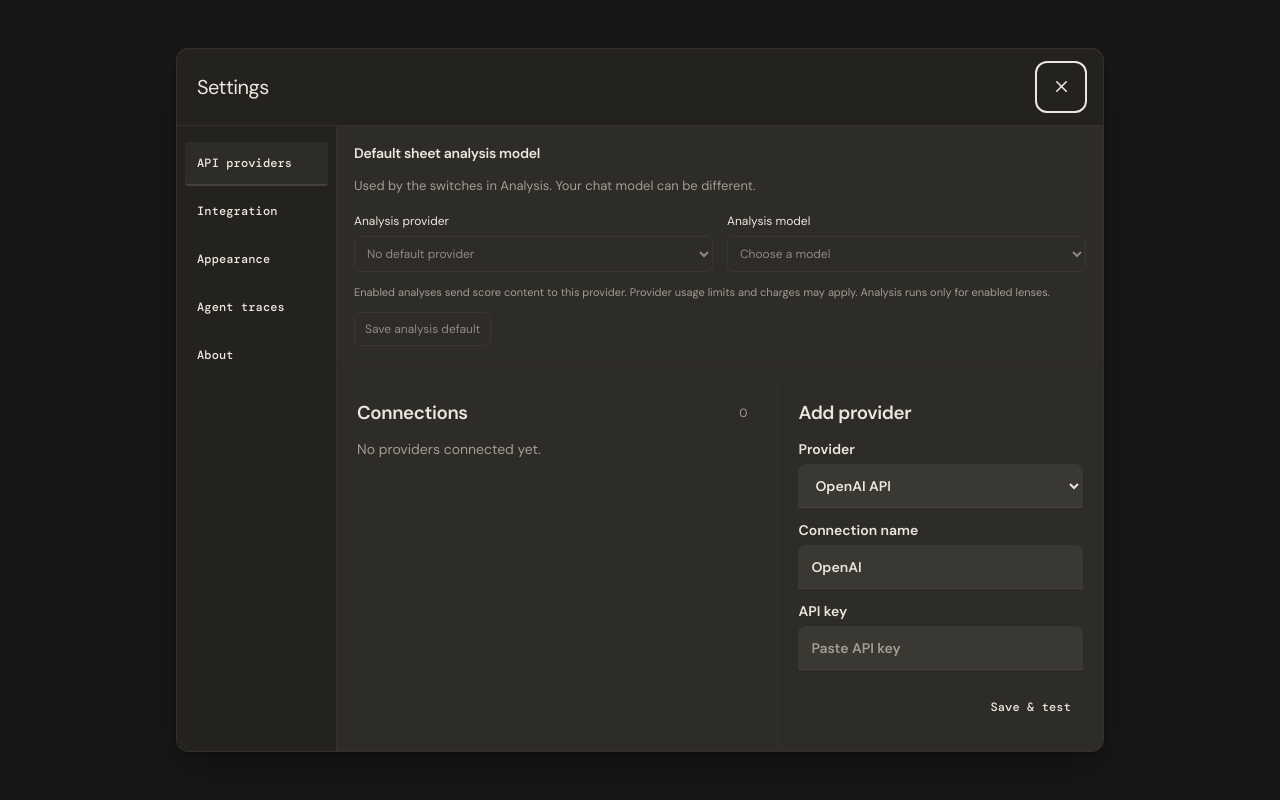
Scenario: AISettingsModal › offers all provider types and saves an API-key connection
Replace the text in the field labelled "Connection name" with "Team OpenAI" at (941, 567), box [798,545,1083,589]
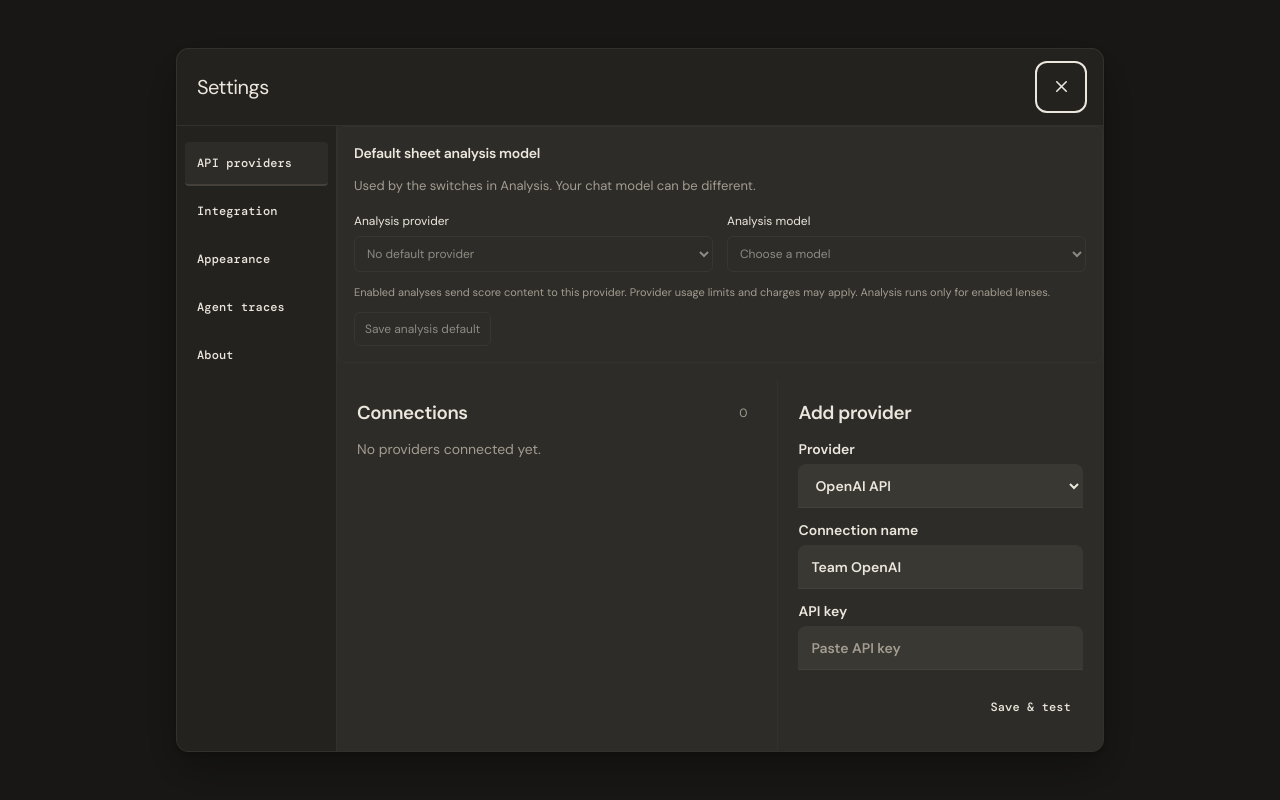
Type "sk-renderer-transient" into the password field labelled "API key" at (941, 648), box [798,626,1083,670]
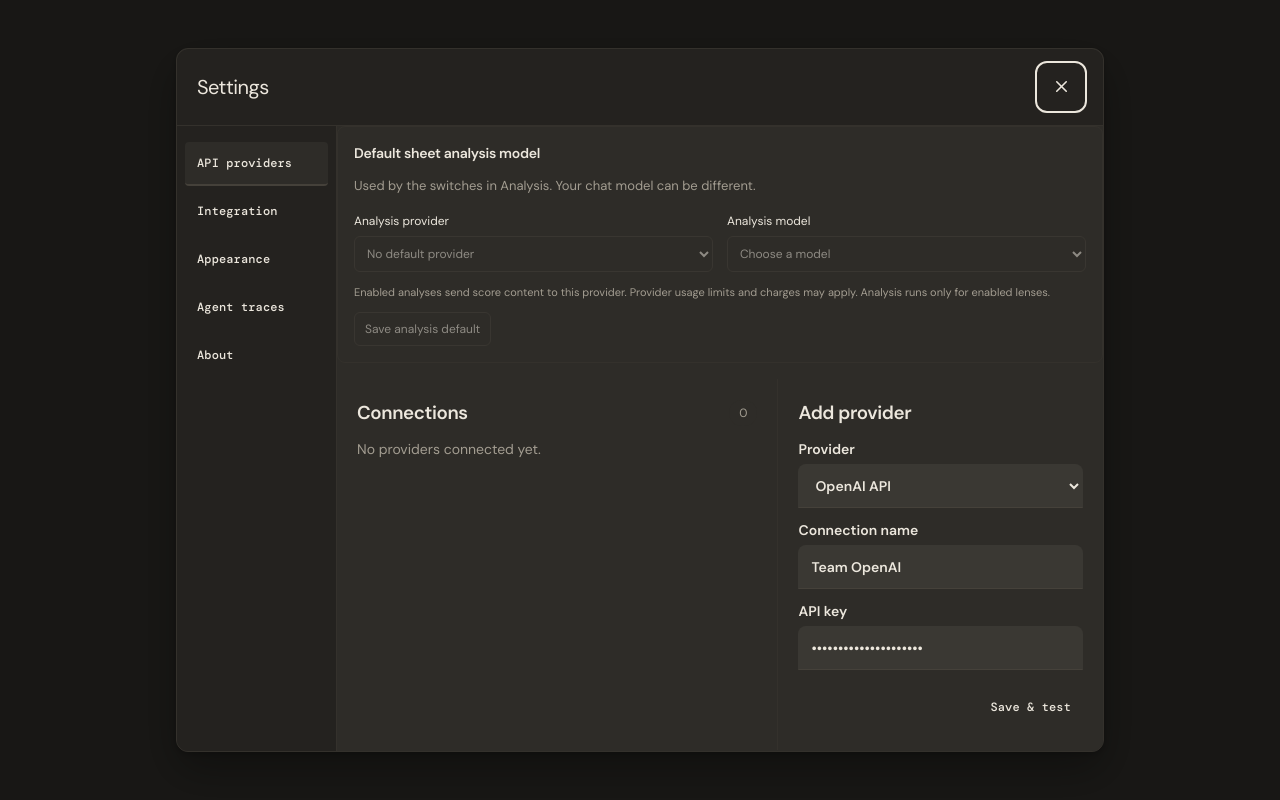
Click the button "Save & test" at (1031, 708), box [978,686,1083,730]
(page scrolled)
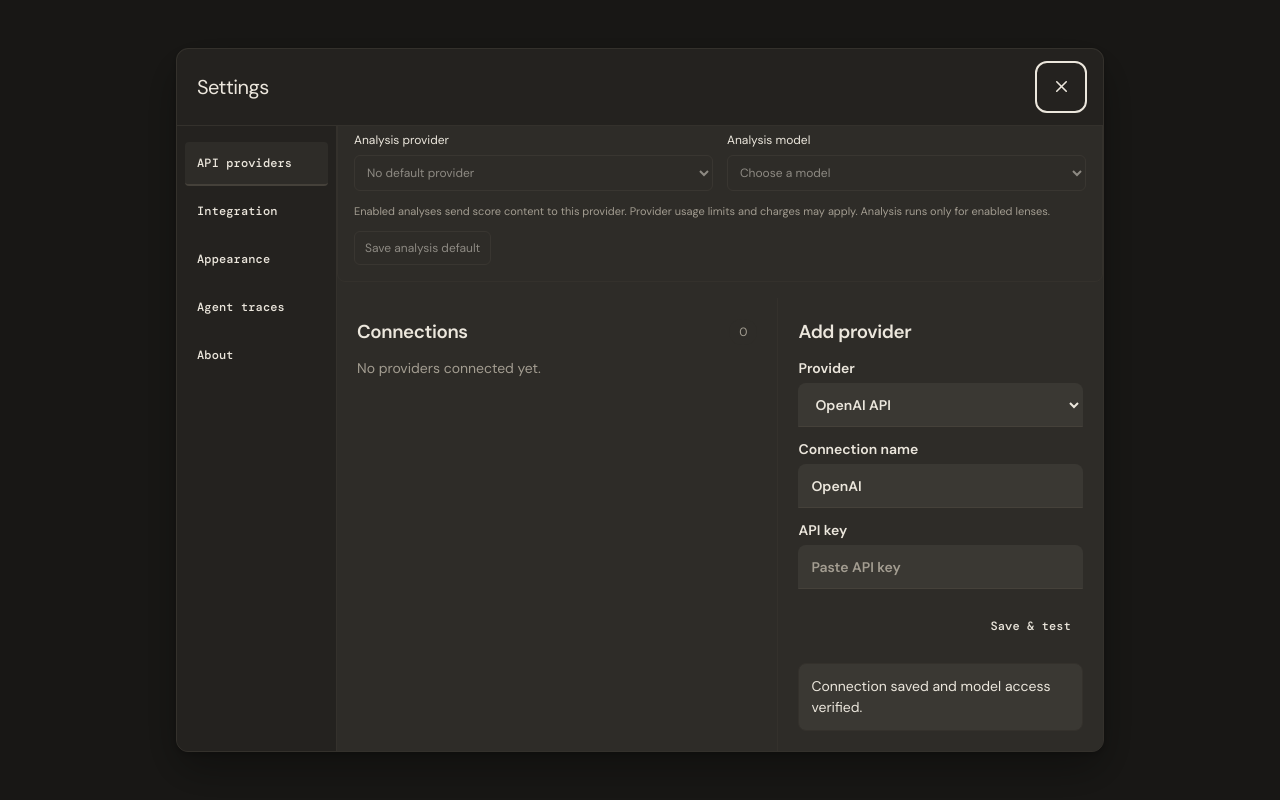
Expected: the text "Connection saved and model access verified." is shown, [798,663,1083,731]
